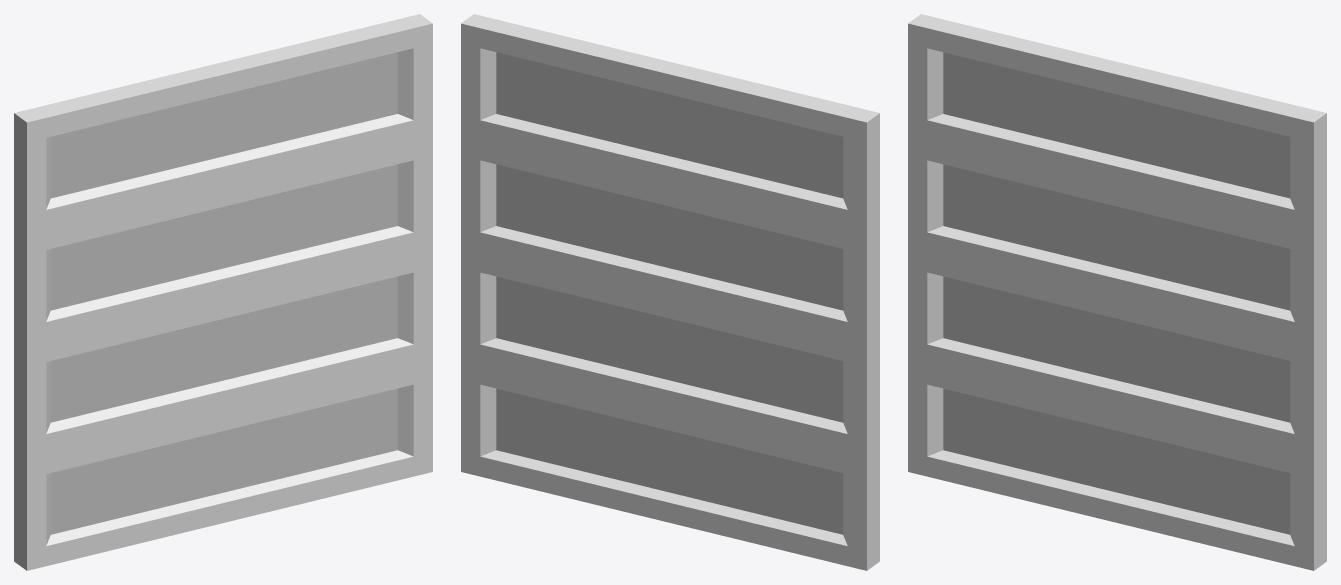
File: GarageDoor00.fbx
3 renders of one model, left to right at view 1: azimuth 30°, elevation 25°; view 2: azimuth 150°, elevation 25°; view 3: azimuth 330°, elevation 25°, orthographic.
Visible parts, largest first — view 1: GarageDoor00; view 2: GarageDoor00; view 3: GarageDoor00.
Part boxes in pixels (box(x1,y1,x2,y2)): GarageDoor00: box(14, 14, 432, 570); GarageDoor00: box(461, 14, 879, 570); GarageDoor00: box(908, 14, 1326, 570).
Size of the model in its own units: 180 by 190 by 10.
